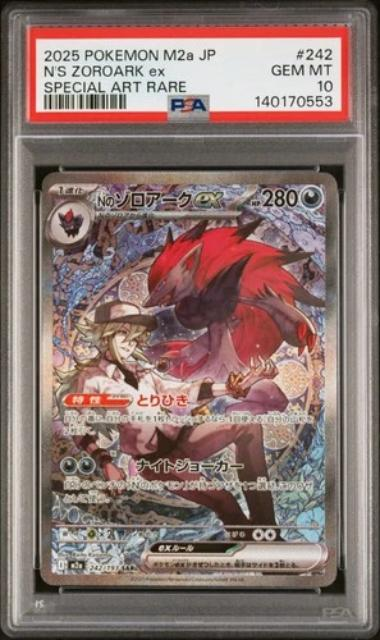Card: (34, 164, 345, 596)
Name: (91, 184, 233, 215)
